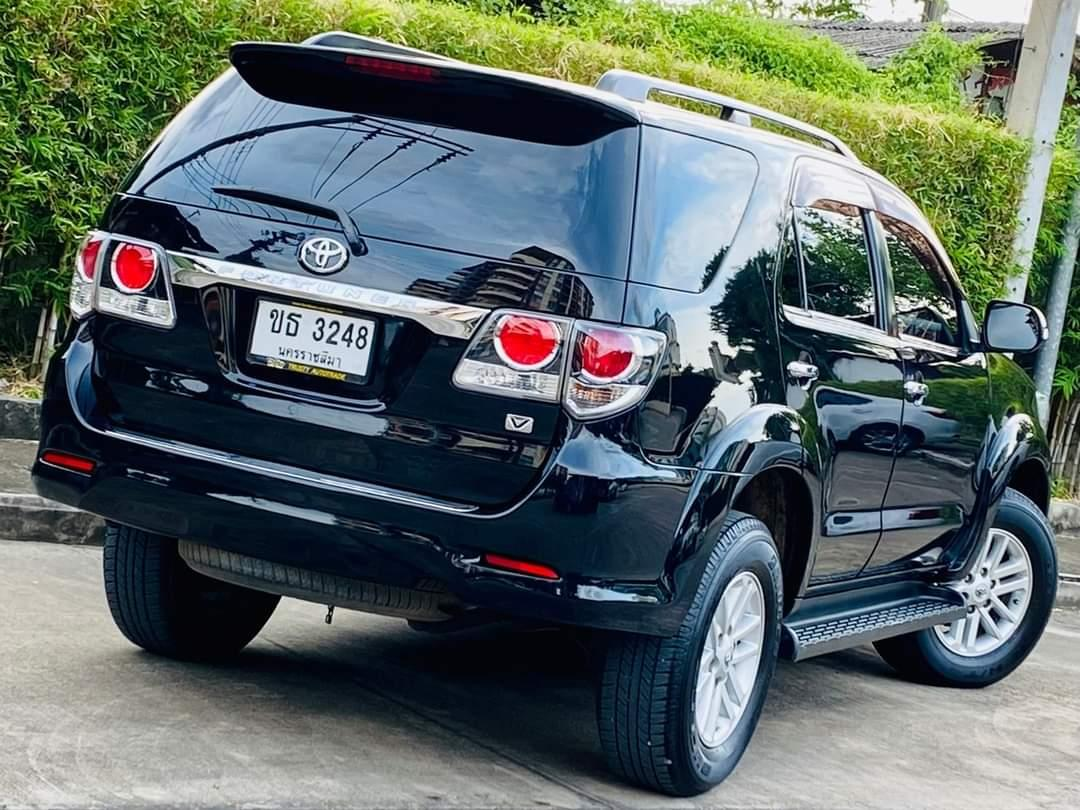license-plate: (245, 289, 379, 394)
